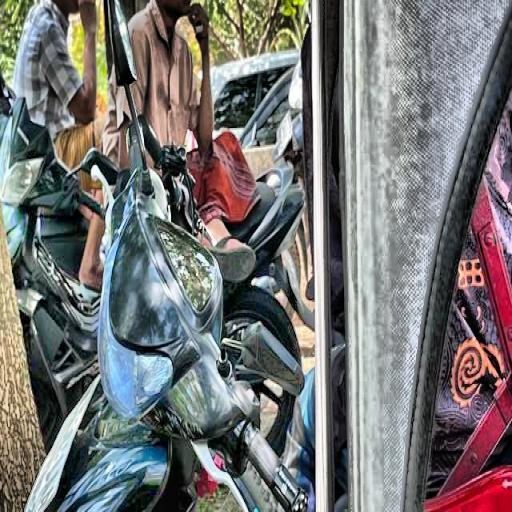Merokok: (51, 0, 95, 122), (82, 249, 98, 283)
